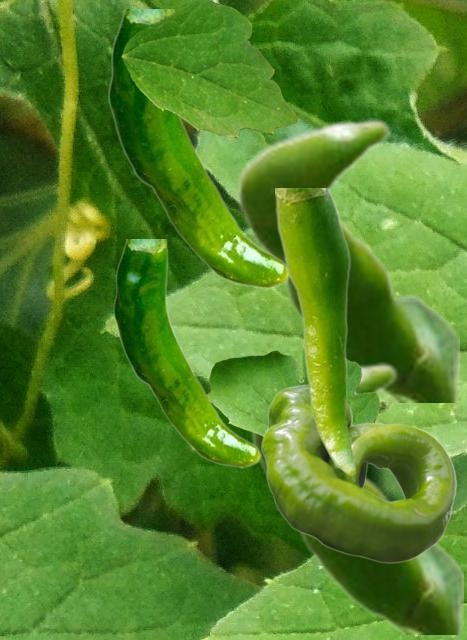green_chili: (236, 118, 458, 401), (250, 362, 462, 633), (108, 9, 289, 288), (261, 384, 455, 562), (113, 239, 260, 467), (275, 188, 354, 474)
